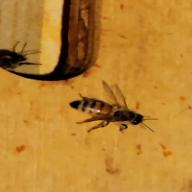Bee: (71, 90, 153, 132)
